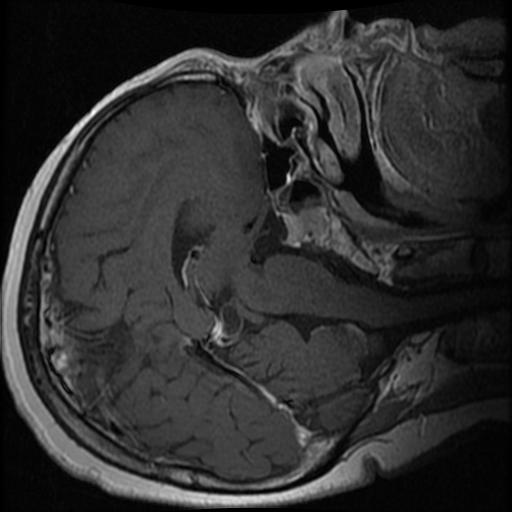pituitary tumour: (282, 207, 325, 246)
